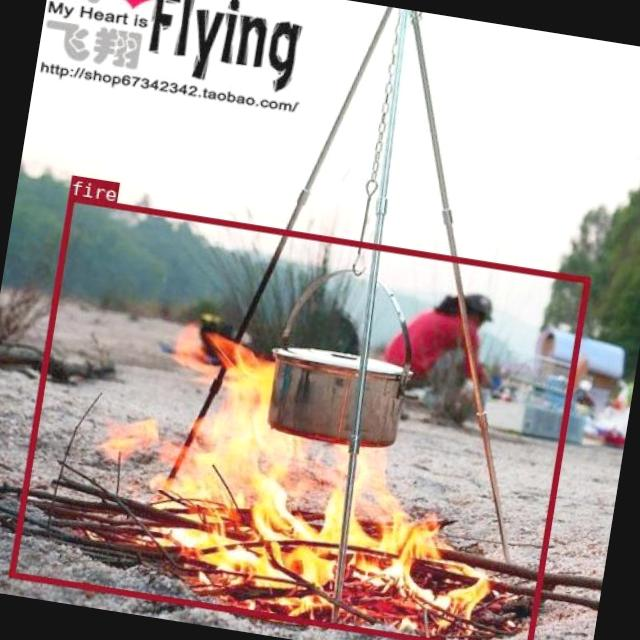fire: (8, 194, 590, 640)
